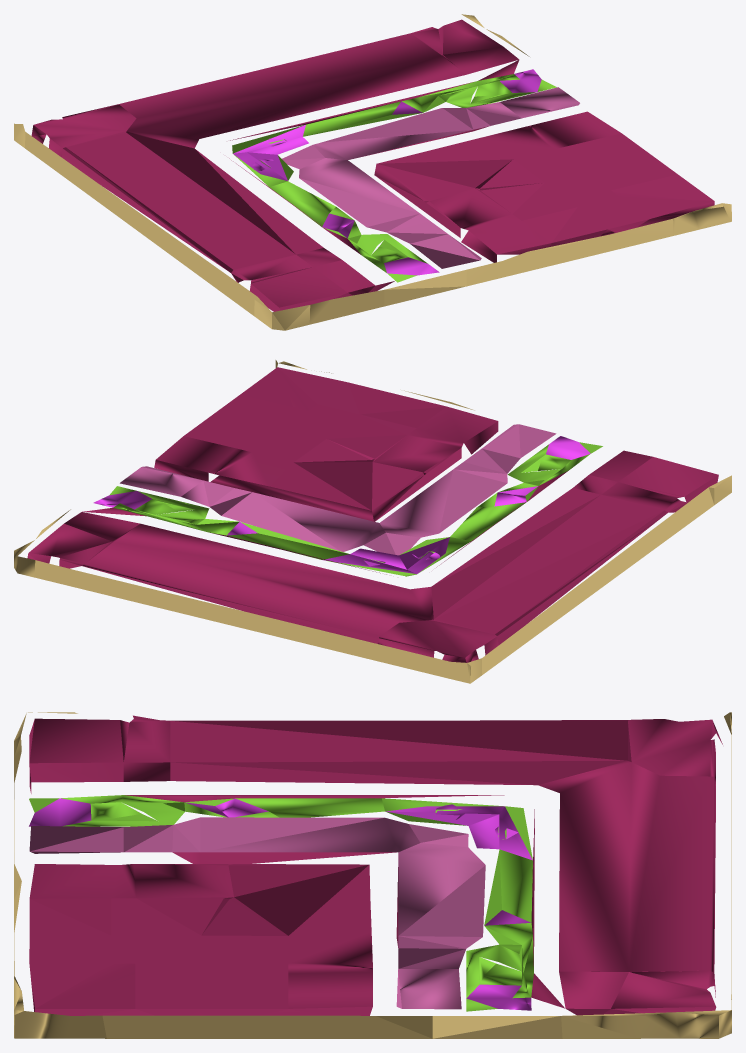
File: floor_corner_16x16_a_lod5.glb
3 views of the same model, one above another, from view 1: azimuth 30°, elevation 25°; view 2: azimuth 150°, elevation 25°; view 3: azimuth 270°, elevation 25° (orthographic). The views are drawn at different scales.
Bounding box in the file's own units: 16.01 × 0.601 × 16.01.
